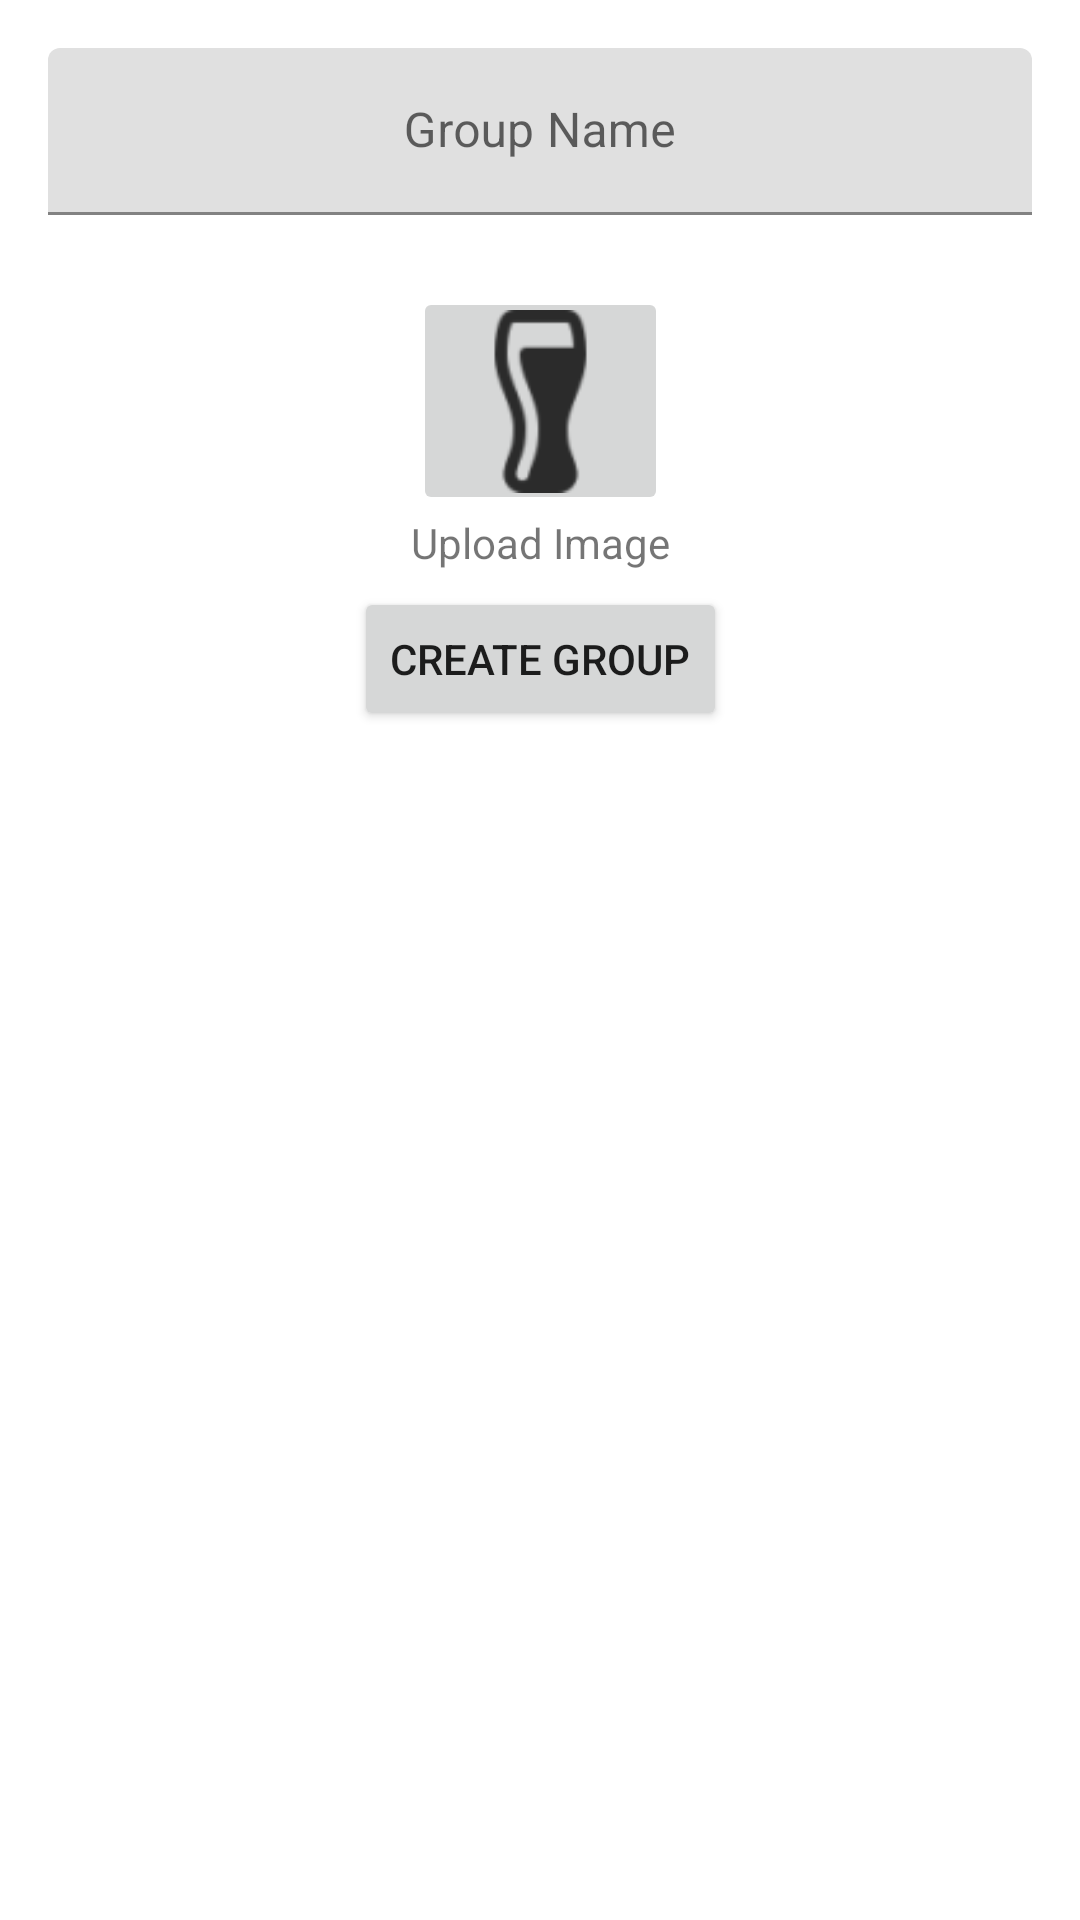

Icon bounding boxes for this 1080 × 1920 phone screenshot, format [x1=x1, y1=y1, x2=x2, y2=y2]:
Set group Icon: [x1=425, y1=305, x2=656, y2=497]
